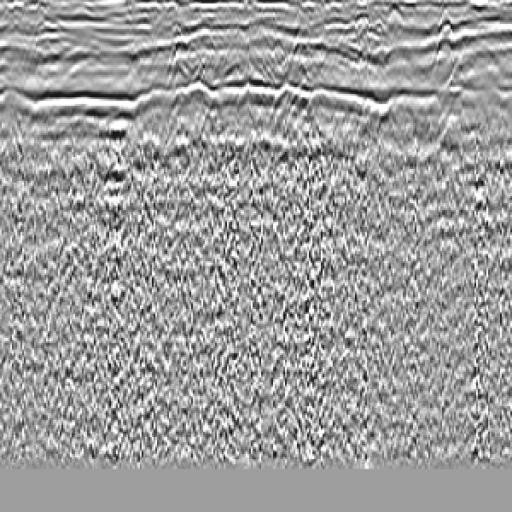non-metallic: (352, 38, 416, 259), (93, 42, 150, 274)
